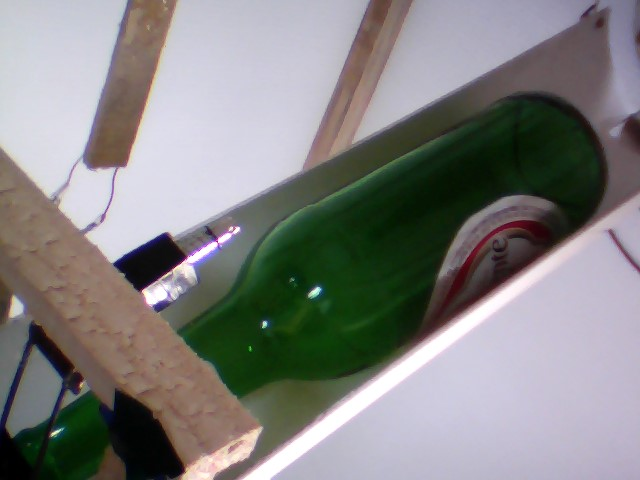vidrio: (154, 85, 610, 412)
